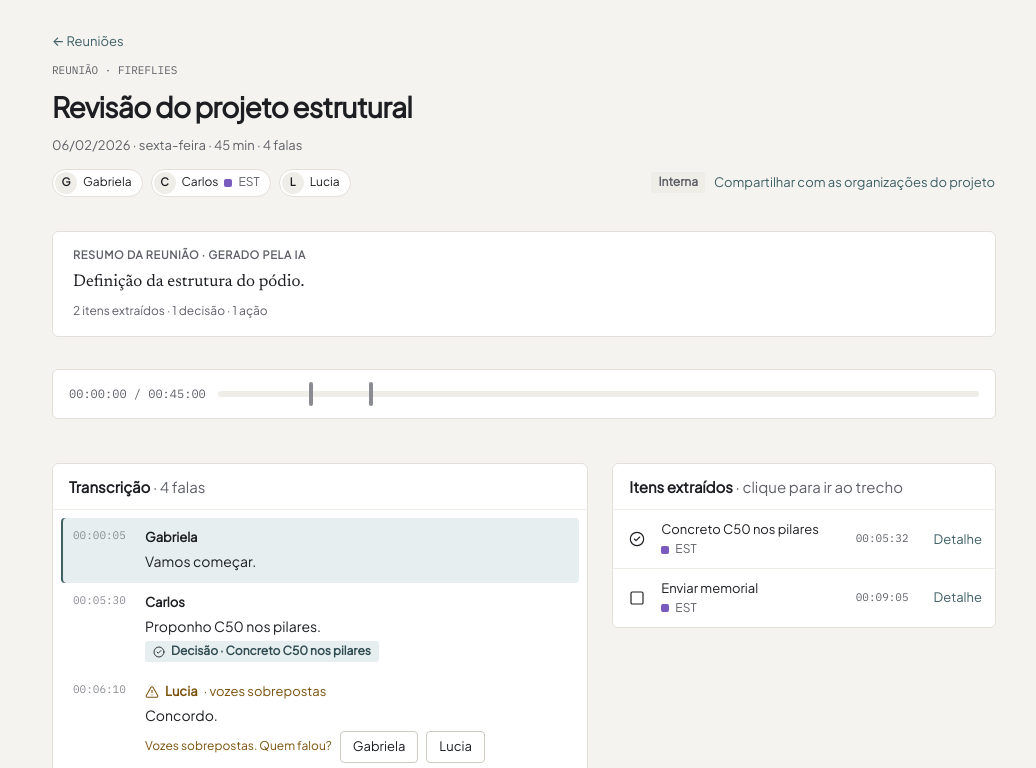
Test: Phase 3c › anchors items to their turn and jumps there from the list
Expected: the button "Decisão · Concreto C50 nos pilares" is shown, left=145, top=641, right=379, bottom=662
Click the button "Enviar memorial EST 00:09:05": [710, 588] box left=613, top=569, right=925, bottom=626
(page scrolled)
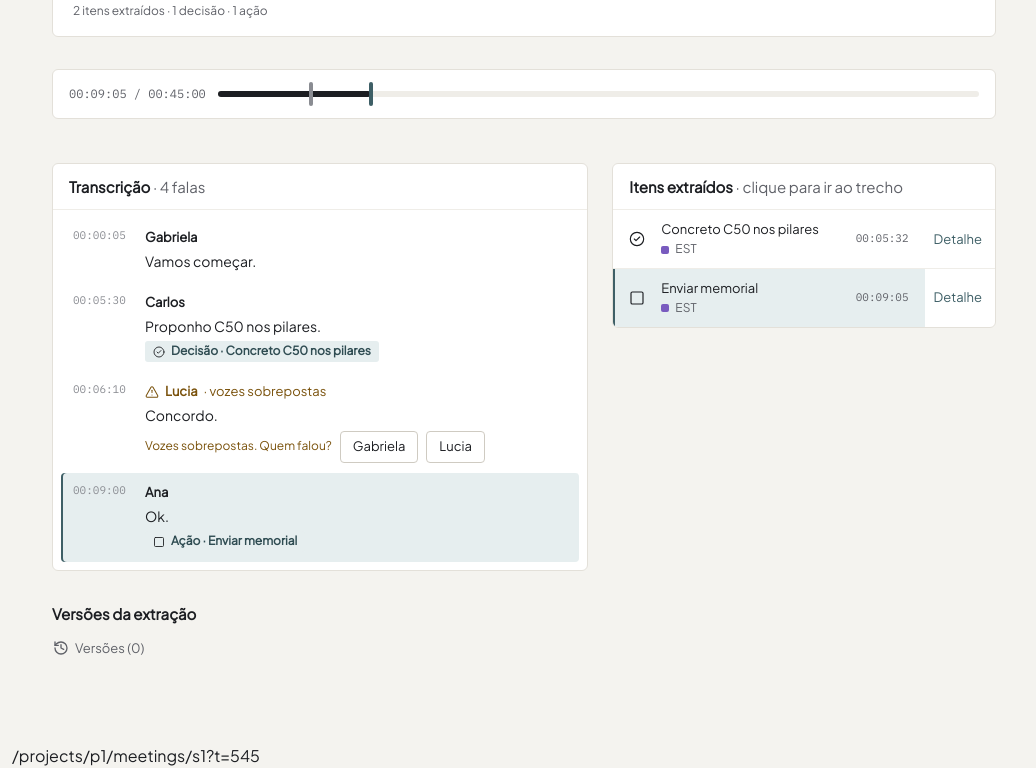
Now the text with test id "where" shows "?t=545", box left=12, top=745, right=260, bottom=766
